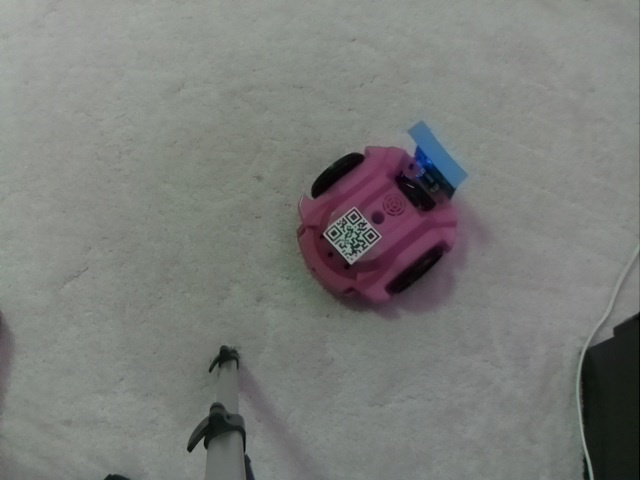chassis: (285, 125, 464, 302)
qr: (323, 203, 383, 265)
